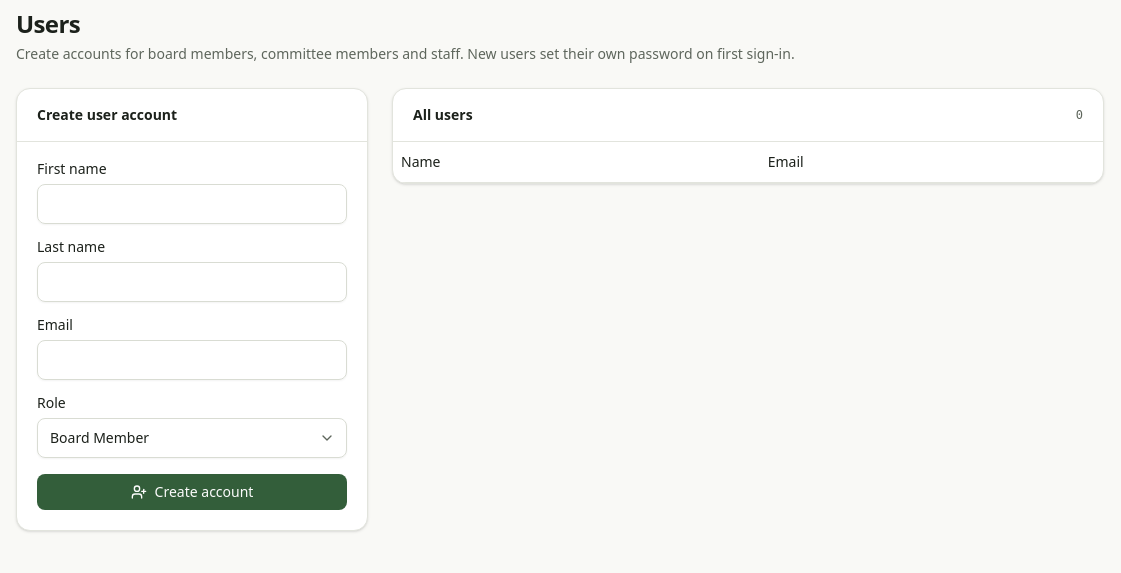
Test: AdminUsers › shows an inline, labelled validation error per field on a 400 response
The image size is (1121, 573).
Type "Jane" into the field labelled "First name".
click(192, 204); type("Jane")  # box [37,184,347,224]
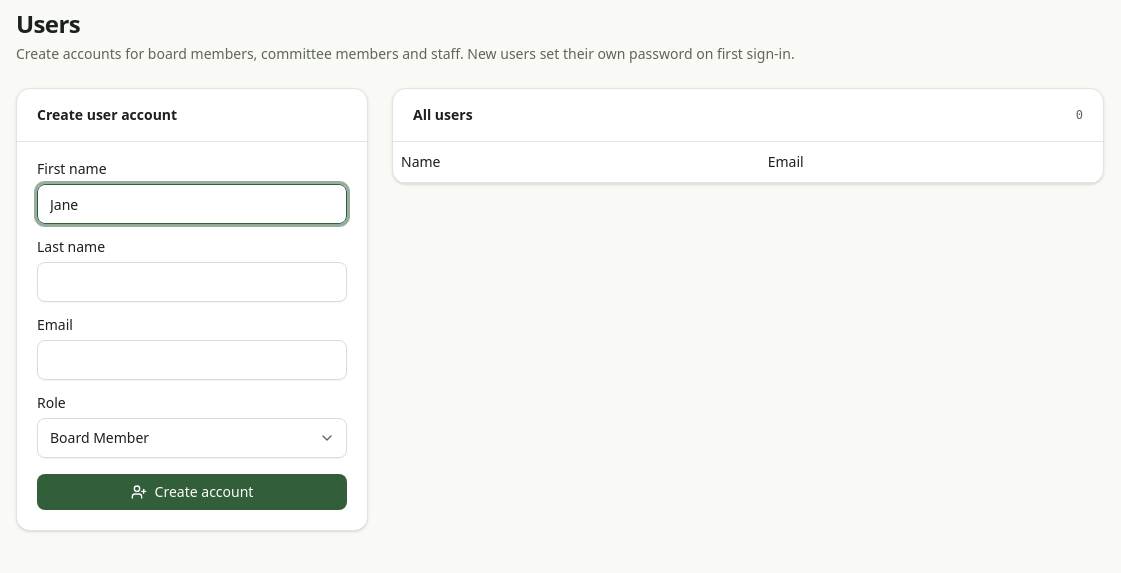
Type "Doe" into the field labelled "Last name".
click(192, 282); type("Doe")  # box [37,262,347,302]
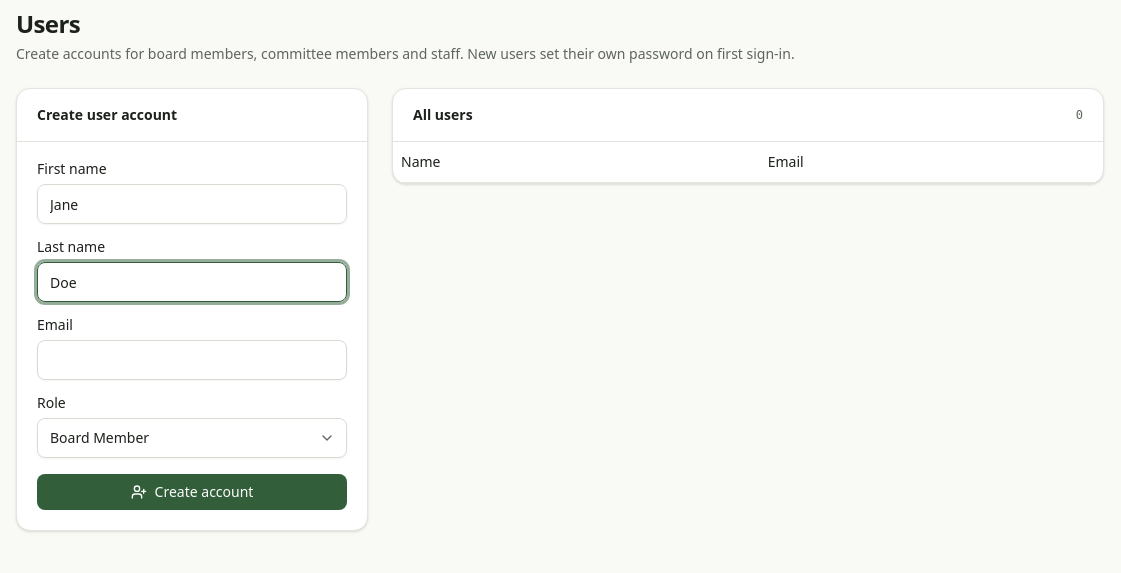
Type "jane@example.com" into the field labelled "Email".
click(192, 360); type("jane@example.com")  # box [37,340,347,380]
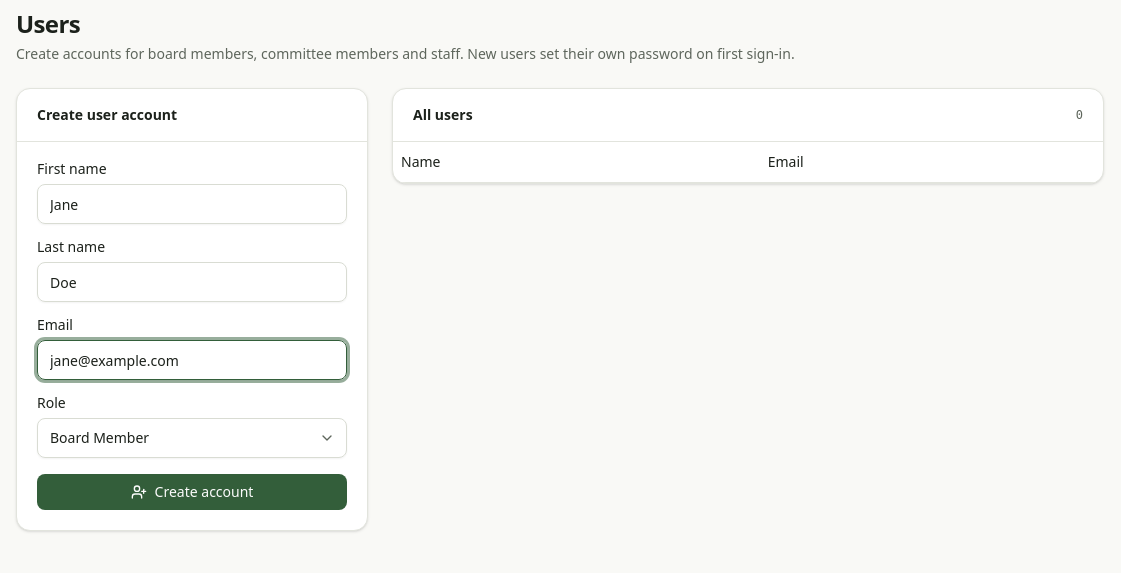
Click the button "Create account".
click(192, 492)  # box [37,474,347,510]
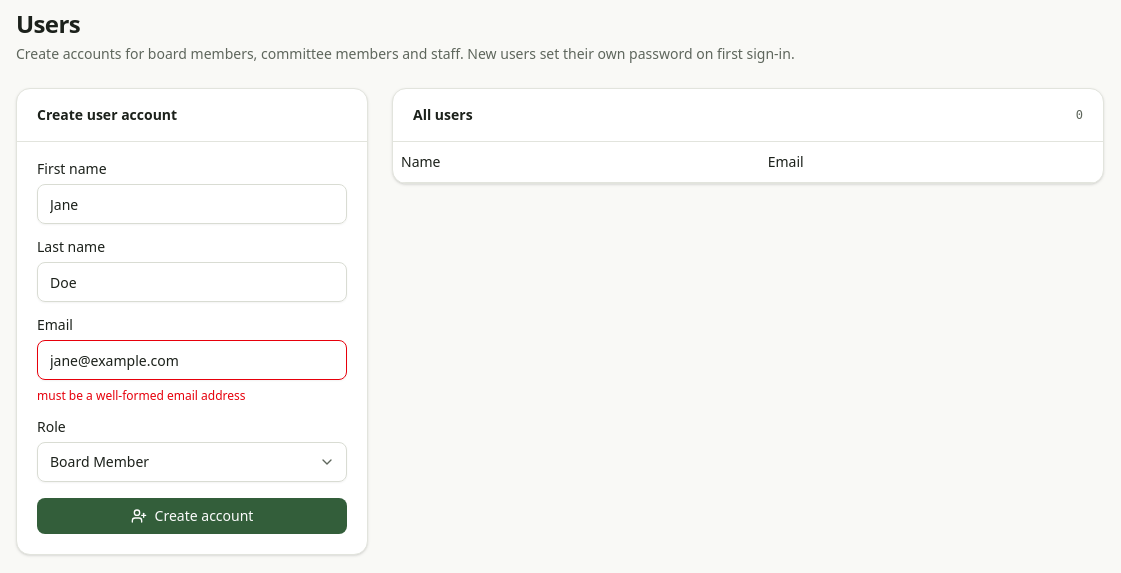
Now the text "must be a well-formed email address" is shown, box [37,387,246,404]
